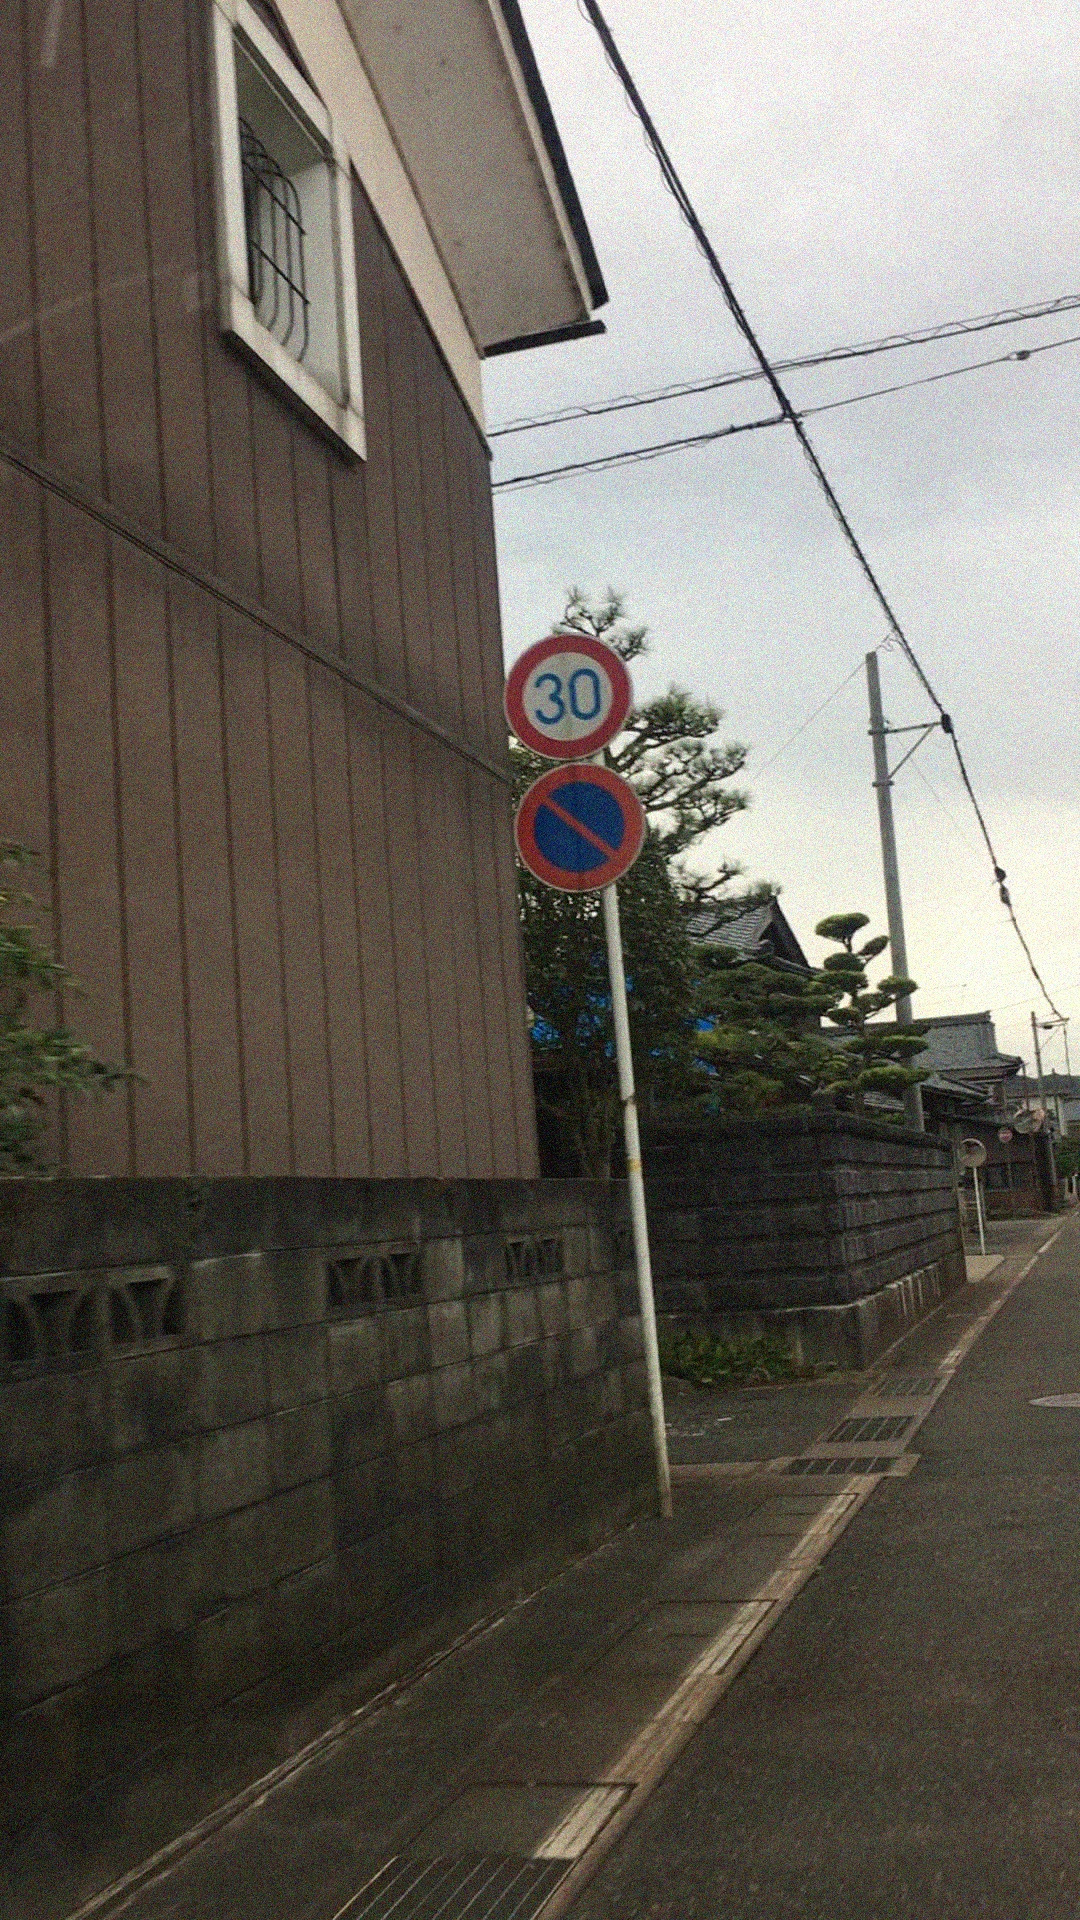Prohibition_sign: (502, 762, 665, 906)
Speed_sign: (500, 630, 640, 764)
